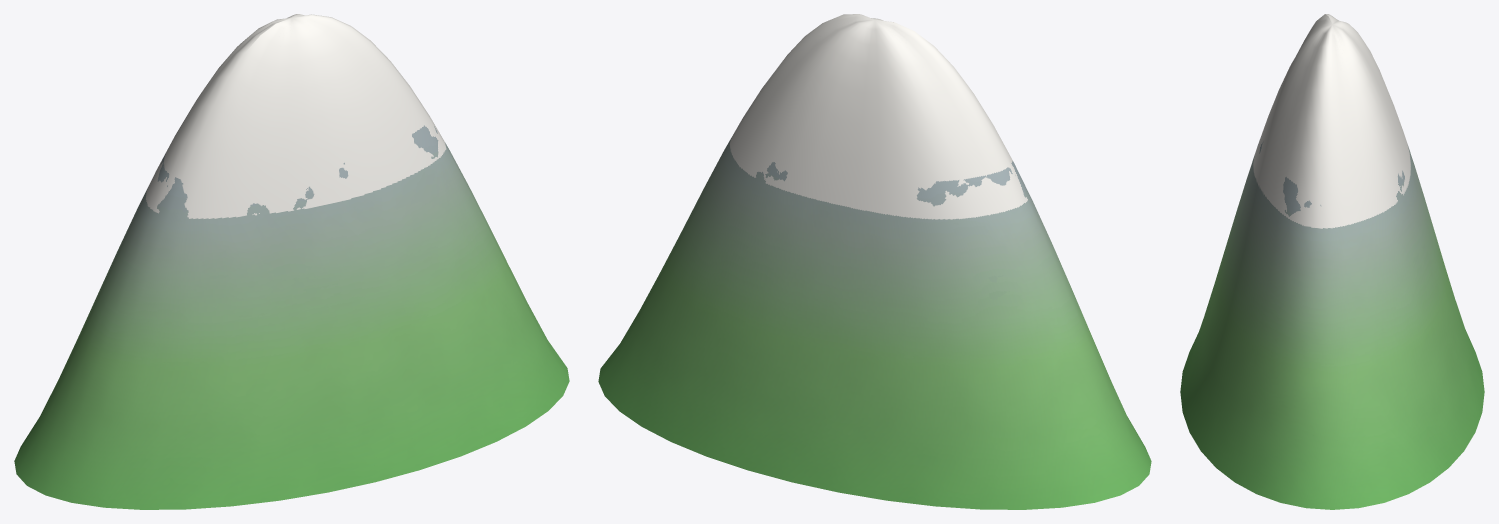
The model's file is hill_a.fbx.
The picture shows the model from 3 angles, left to right: view 1: azimuth 30°, elevation 25°; view 2: azimuth 150°, elevation 25°; view 3: azimuth 270°, elevation 25°; orthographic projection. The views are drawn at different scales.
Visible parts, largest first — view 1: hill_a; view 2: hill_a; view 3: hill_a.
Boxes of the visible parts, box(x1,y1,x2,y2) form: hill_a: box(14, 14, 569, 509); hill_a: box(598, 14, 1151, 509); hill_a: box(1180, 14, 1484, 509).
Size of the model in its own units: 22000 by 16000 by 12000.
Materials: 1 (1 with a texture image).
